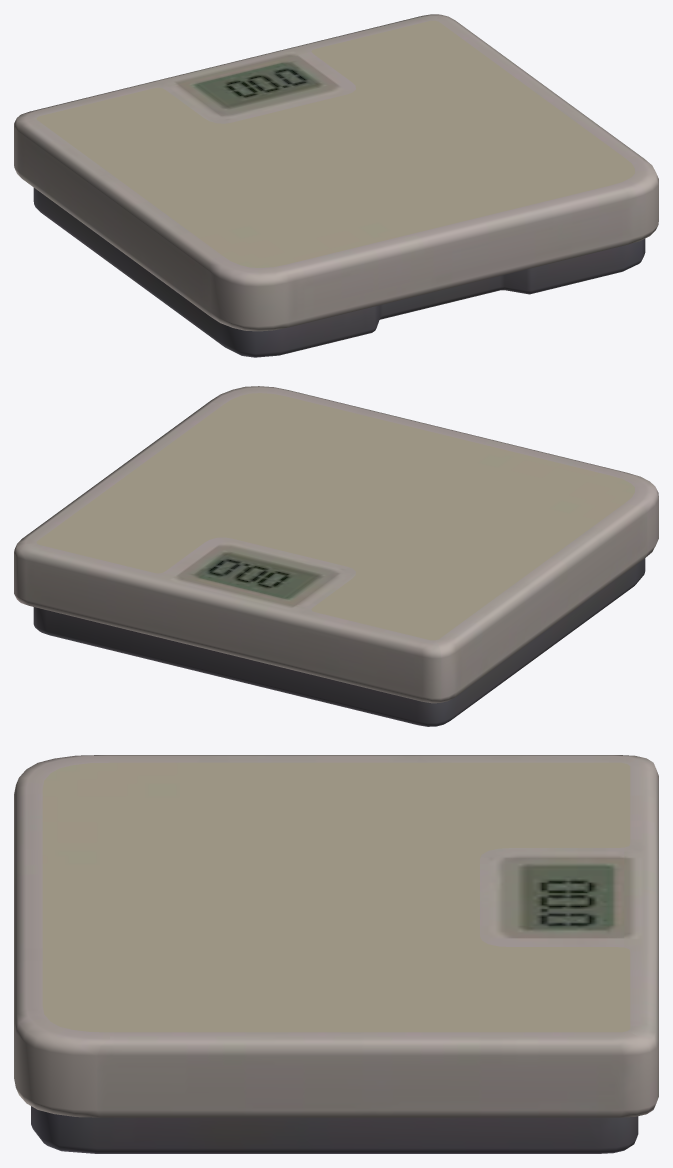
3 views of the same model, one above another, from view 1: azimuth 30°, elevation 25°; view 2: azimuth 150°, elevation 25°; view 3: azimuth 270°, elevation 25° (orthographic). The views are drawn at different scales.
Bounding box in the file's own units: 6.11 × 1.16 × 5.68.
2 materials, 2 textured.
